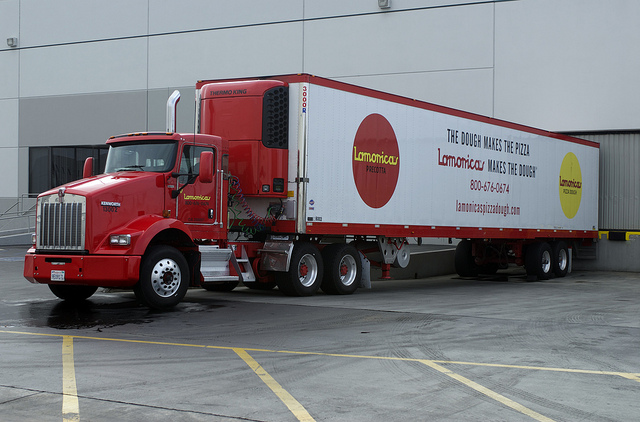Truck: (26, 74, 611, 284)
